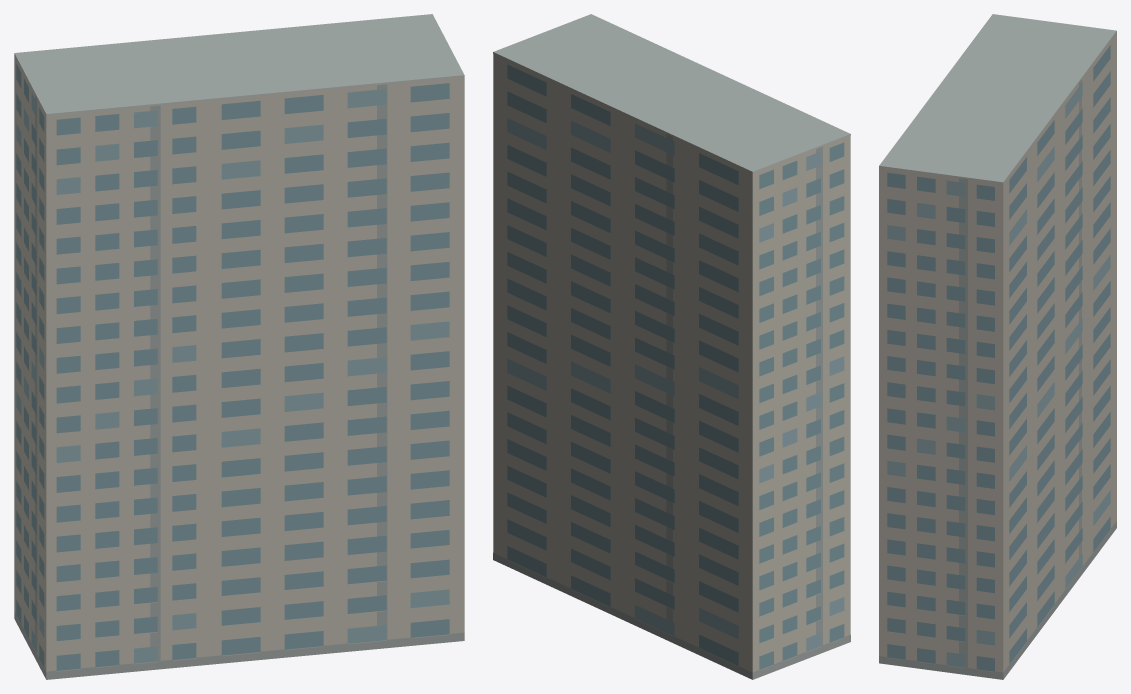
File: residential-05b3694a-cead-4e04-9d63-da551159794b.glb
3 views of the same model, side by side, from view 1: azimuth 30°, elevation 25°; view 2: azimuth 150°, elevation 25°; view 3: azimuth 270°, elevation 25° (orthographic). The views are drawn at different scales.
Visible parts, largest first — view 1: residential-05b3694a-cead-4e04-9d63-da551159794b.tmp; view 2: residential-05b3694a-cead-4e04-9d63-da551159794b.tmp; view 3: residential-05b3694a-cead-4e04-9d63-da551159794b.tmp.
Boxes of the visible parts, bbox=[...] form: residential-05b3694a-cead-4e04-9d63-da551159794b.tmp: bbox=[14, 14, 464, 679]; residential-05b3694a-cead-4e04-9d63-da551159794b.tmp: bbox=[493, 14, 850, 679]; residential-05b3694a-cead-4e04-9d63-da551159794b.tmp: bbox=[879, 14, 1116, 679].
Bounding box in the file's own units: 50.8 × 70 × 30.32.
